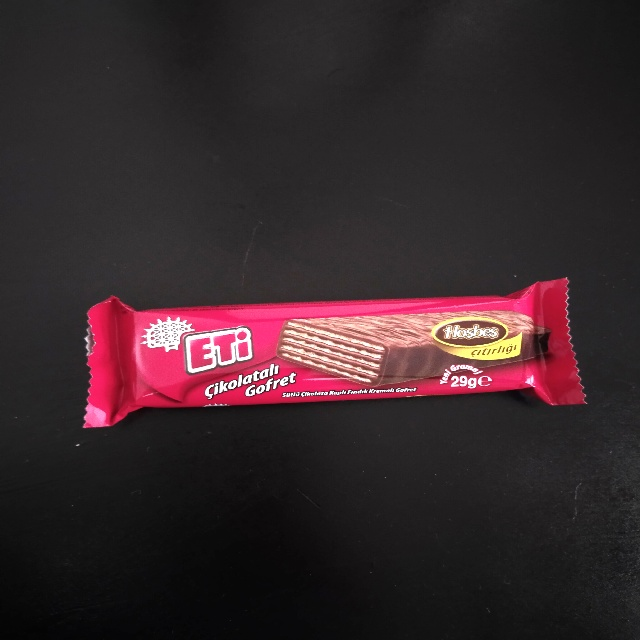eti_hosbes_gofret: (82, 278, 584, 426)
